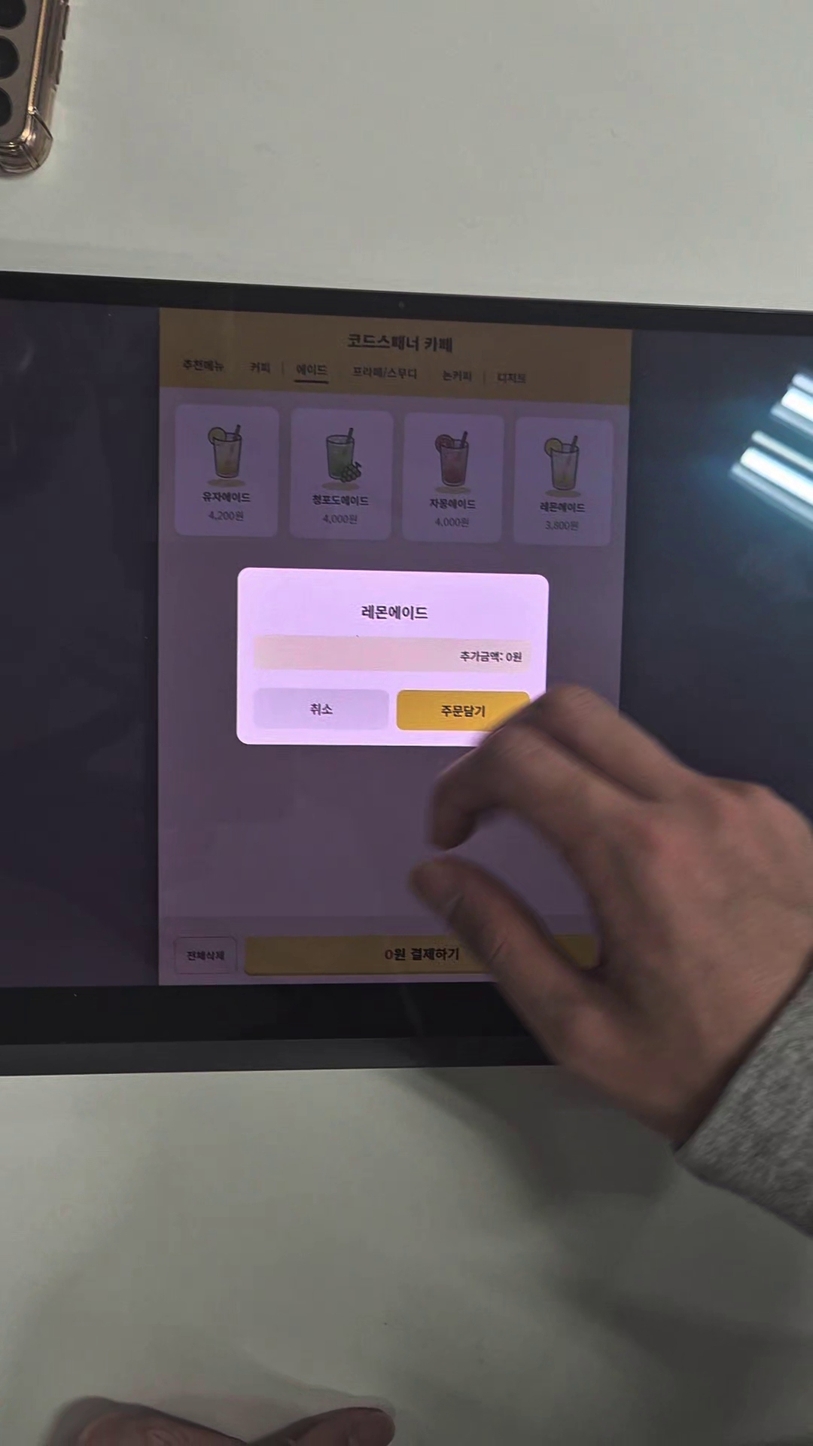action_button: (254, 687, 388, 730), (396, 689, 531, 731)
popup_modal: (235, 566, 549, 747)
